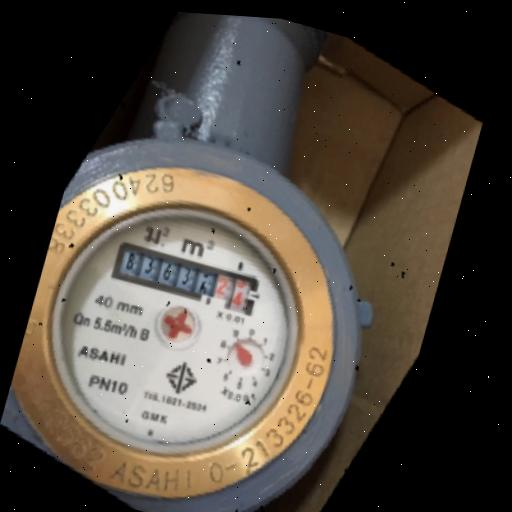2: (213, 274, 232, 300)
3: (139, 255, 159, 281), (176, 265, 195, 290)
4: (229, 277, 250, 310)
6: (195, 271, 214, 296), (158, 260, 176, 286)
8: (119, 248, 139, 276)
border_water_meter_number: (108, 238, 264, 319)
